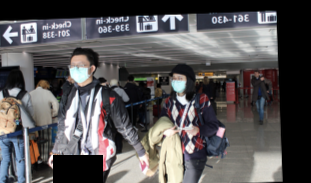with_mask: (68, 60, 89, 83), (170, 74, 186, 93)
without_mask: (252, 72, 258, 77)
